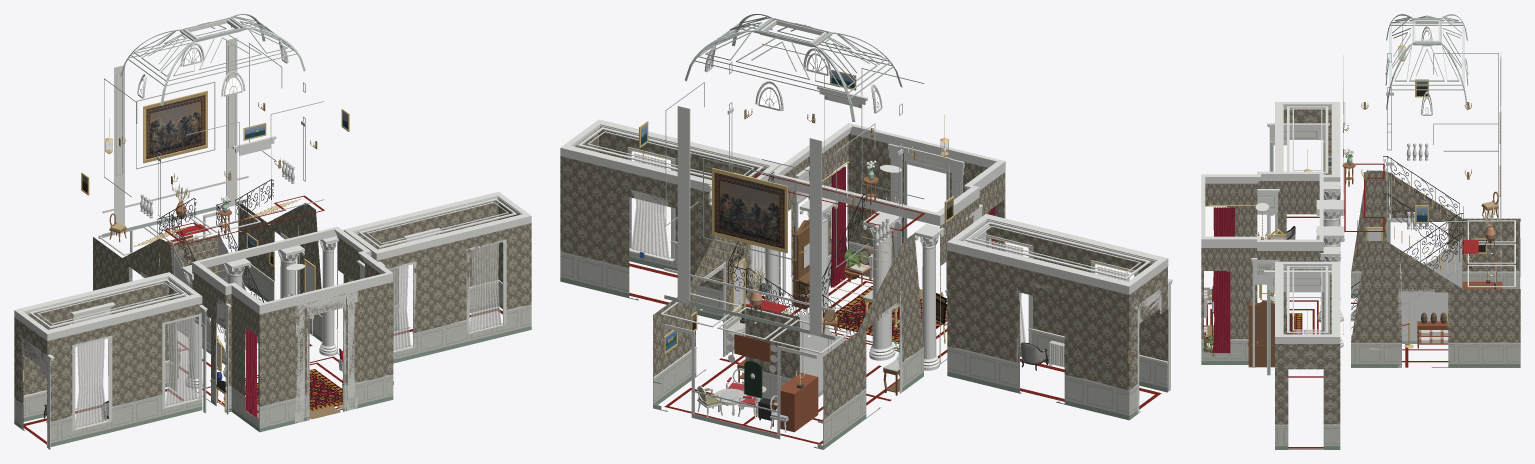
File: piece_circulations.glb
The picture shows the model from 3 angles, left to right: view 1: azimuth 30°, elevation 25°; view 2: azimuth 150°, elevation 25°; view 3: azimuth 270°, elevation 25°; orthographic projection. The views are drawn at different scales.
Parts seen in each view (by area): view 1: vestibule_murs, couloir_ouest_murs, couloir_est_murs, couloir_ouest_decor, vestibule_decor, couloir_est_decor, palier_panneaux_cage, escalier_tapisserie, palier_coupole_caissons, petit_salon_murs, passage_est_murs, couloir_ouest_voilage_87 (+17 smaller); view 2: couloir_ouest_murs, couloir_est_murs, vestibule_decor, couloir_ouest_decor, palier_panneaux_cage, vestibule_murs, couloir_est_decor, petit_salon_murs, petit_salon_decor, escalier_tapisserie, passage_ouest_murs, palier_coupole_caissons (+20 smaller); view 3: vestibule_murs, passage_est_murs, petit_salon_murs, vestibule_decor, couloir_est_decor, couloir_est_murs, passage_ouest_murs, couloir_ouest_decor, palier_coupole_caissons, passage_est_decor, escalier_rampes_volutes, palier_panneaux_cage (+18 smaller).
Part boxes in pixels (box(x1,y1,x2,y2)): vestibule_murs: box(192, 236, 393, 432); couloir_ouest_murs: box(14, 280, 202, 447); couloir_est_murs: box(343, 200, 531, 363); couloir_ouest_decor: box(14, 272, 207, 449); vestibule_decor: box(192, 226, 393, 423); couloir_est_decor: box(343, 191, 531, 352); palier_panneaux_cage: box(102, 37, 324, 237); escalier_tapisserie: box(143, 90, 207, 163); palier_coupole_caissons: box(120, 14, 305, 105); petit_salon_murs: box(93, 203, 267, 301); passage_est_murs: box(266, 203, 322, 341); couloir_ouest_voilage_87: box(75, 339, 107, 428); couloir_ouest_murs: box(947, 223, 1167, 420); couloir_est_murs: box(560, 129, 780, 320); vestibule_decor: box(769, 123, 1005, 358); couloir_ouest_decor: box(947, 214, 1172, 413); palier_panneaux_cage: box(664, 43, 924, 340); vestibule_murs: box(783, 134, 1005, 364); couloir_est_decor: box(560, 119, 785, 304); petit_salon_murs: box(653, 297, 857, 449); petit_salon_decor: box(653, 293, 849, 449); escalier_tapisserie: box(712, 168, 787, 253); passage_ouest_murs: box(858, 233, 923, 424); palier_coupole_caissons: box(685, 14, 902, 121); vestibule_murs: box(1201, 181, 1323, 364); passage_est_murs: box(1351, 241, 1462, 367); petit_salon_murs: box(1462, 218, 1520, 367); vestibule_decor: box(1201, 171, 1323, 367); couloir_est_decor: box(1264, 261, 1340, 448); couloir_est_murs: box(1275, 269, 1340, 449); passage_ouest_murs: box(1351, 170, 1462, 297); couloir_ouest_decor: box(1267, 102, 1340, 239); palier_coupole_caissons: box(1386, 14, 1467, 109); passage_est_decor: box(1351, 259, 1462, 367); escalier_rampes_volutes: box(1351, 156, 1463, 328); palier_panneaux_cage: box(1343, 52, 1501, 281).
Bounding box in the file's own units: 20.01 × 12.02 × 11.5.
Materials: 62 (17 with a texture image).
